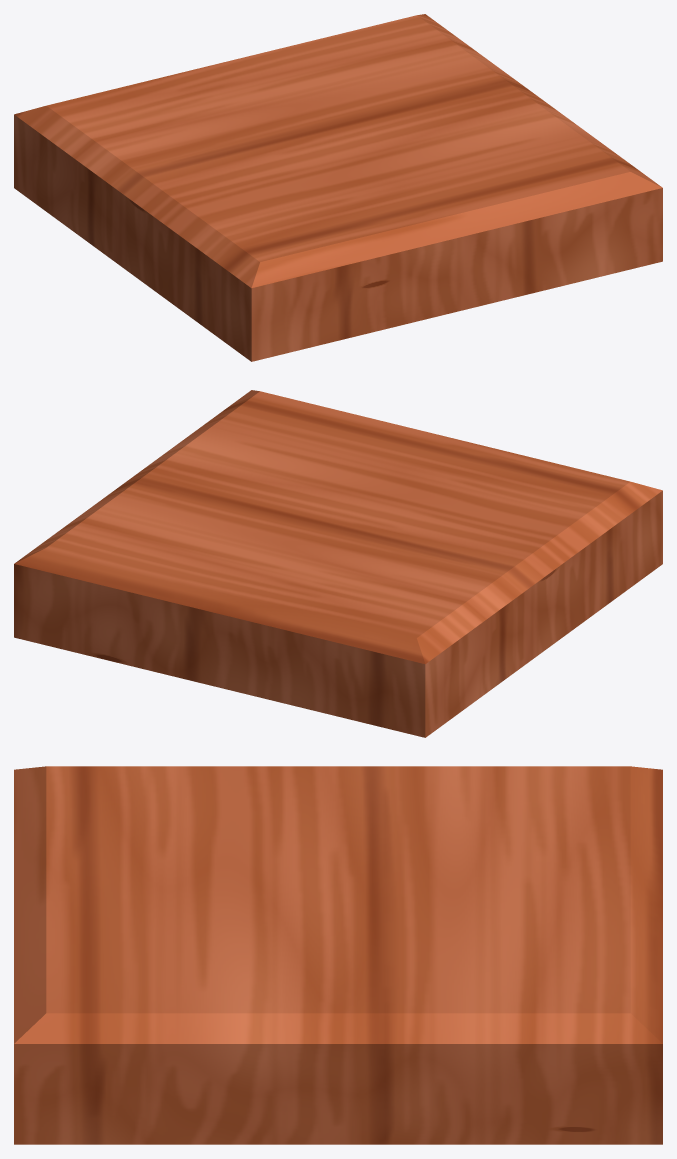
Rendered from trap door.glb.
3 renders of one model, top to bottom at view 1: azimuth 30°, elevation 25°; view 2: azimuth 150°, elevation 25°; view 3: azimuth 270°, elevation 25°, orthographic. The views are drawn at different scales.
Visible parts, largest first — view 1: TrapDoor; view 2: TrapDoor; view 3: TrapDoor.
Part boxes in pixels (x1,y1,x2,y2): TrapDoor: (14, 14, 662, 361); TrapDoor: (14, 390, 662, 737); TrapDoor: (14, 766, 662, 1144).
Size of the model in its own units: 0.75 by 0.15 by 0.75.
Materials: 1 (1 with a texture image).
